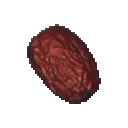gd: (13, 13, 122, 117)
